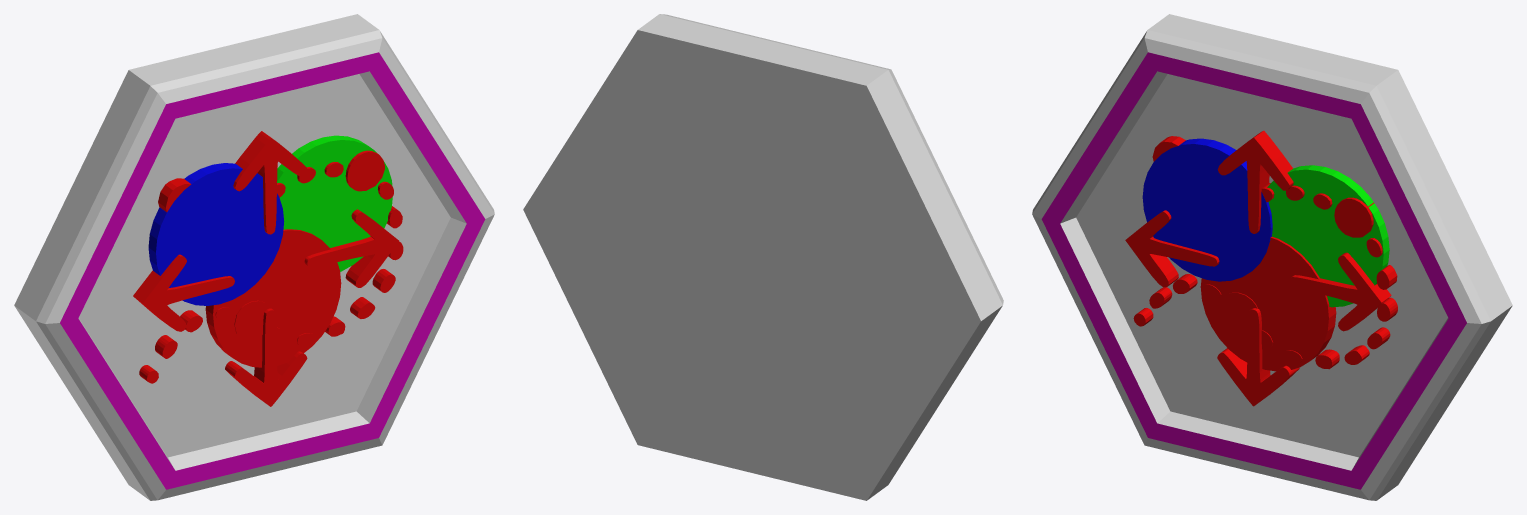
File: hamiltonian.dae
3 views of the same model, side by side, from view 1: azimuth 30°, elevation 25°; view 2: azimuth 150°, elevation 25°; view 3: azimuth 330°, elevation 25° (orthographic).
Parts seen in each view (by area): view 1: node, kColor, Planar; view 2: node; view 3: node, kColor, Planar.
Part boxes in pixels (x1,y1,x2,y2): node: (14,14,494,500); kColor: (148,135,392,367); Planar: (133,131,398,406); node: (523,14,1003,500); node: (1032,14,1512,500); kColor: (1142,138,1389,371); Planar: (1125,130,1391,406).
Bounding box in the file's own units: 2 × 0.2228 × 1.73.
